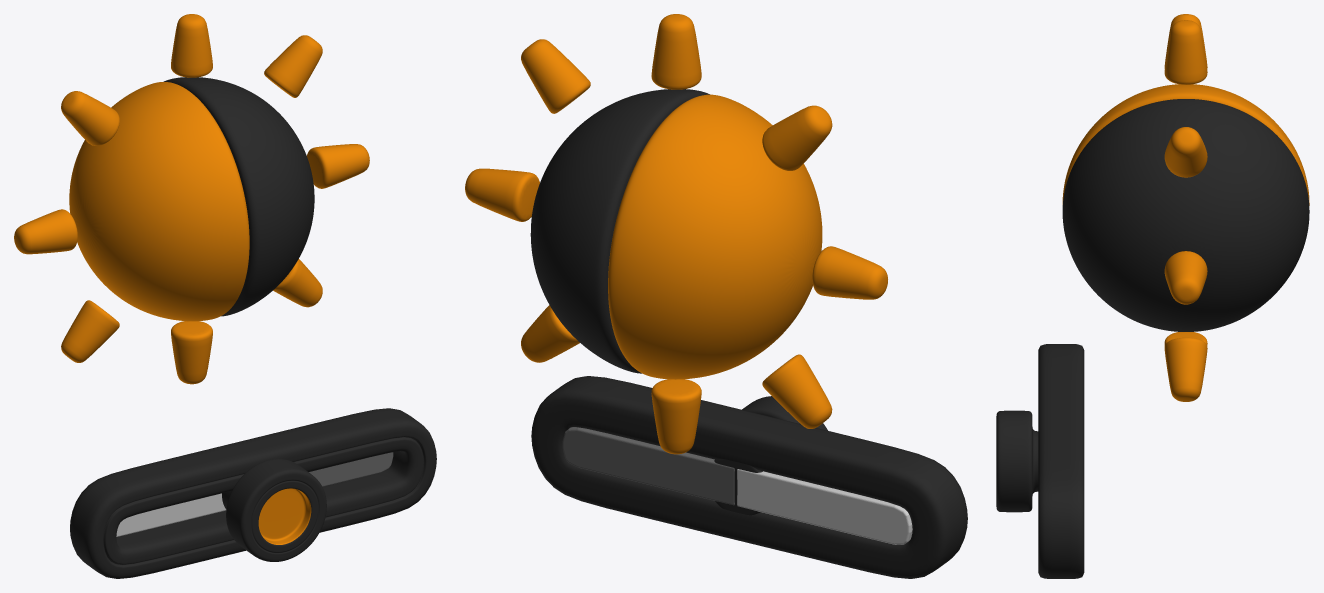
Rendered from sun.glb.
The picture shows the model from 3 angles, left to right: view 1: azimuth 30°, elevation 25°; view 2: azimuth 150°, elevation 25°; view 3: azimuth 270°, elevation 25°; orthographic projection. The views are drawn at different scales.
Visible parts, largest first — view 1: Sphere.002, Cube.047, Cylinder.050, Sphere.003, Cylinder.051, Cube.050, Cube.001; view 2: Sphere.002, Cube.047, Cylinder.050, Sphere.003, Cube.050, Cube.001, Cylinder.051; view 3: Sphere.003, Cube.047, Cylinder.050, Cylinder.051, Sphere.002.
Part boxes in pixels (left/top/right/bottom): Sphere.002: left=69, top=82, right=249, bottom=321; Cube.047: left=70, top=408, right=436, bottom=578; Cylinder.050: left=14, top=14, right=369, bottom=384; Sphere.003: left=163, top=77, right=314, bottom=316; Cylinder.051: left=222, top=459, right=326, bottom=561; Cube.050: left=116, top=493, right=226, bottom=536; Cube.001: left=309, top=452, right=393, bottom=486; Sphere.002: left=608, top=94, right=822, bottom=379; Cube.047: left=531, top=376, right=967, bottom=578; Cylinder.050: left=465, top=14, right=887, bottom=454; Sphere.003: left=530, top=89, right=709, bottom=373; Cube.050: left=737, top=469, right=912, bottom=544; Cube.001: left=562, top=427, right=734, bottom=505; Cylinder.051: left=714, top=396, right=827, bottom=515; Sphere.003: left=1062, top=99, right=1309, bottom=331; Cube.047: left=1038, top=344, right=1084, bottom=578; Cylinder.050: left=1164, top=14, right=1207, bottom=401; Cylinder.051: left=996, top=410, right=1038, bottom=512; Sphere.002: left=1062, top=84, right=1309, bottom=205.
Size of the model in its own units: 1.15 by 1.51 by 0.8804.
